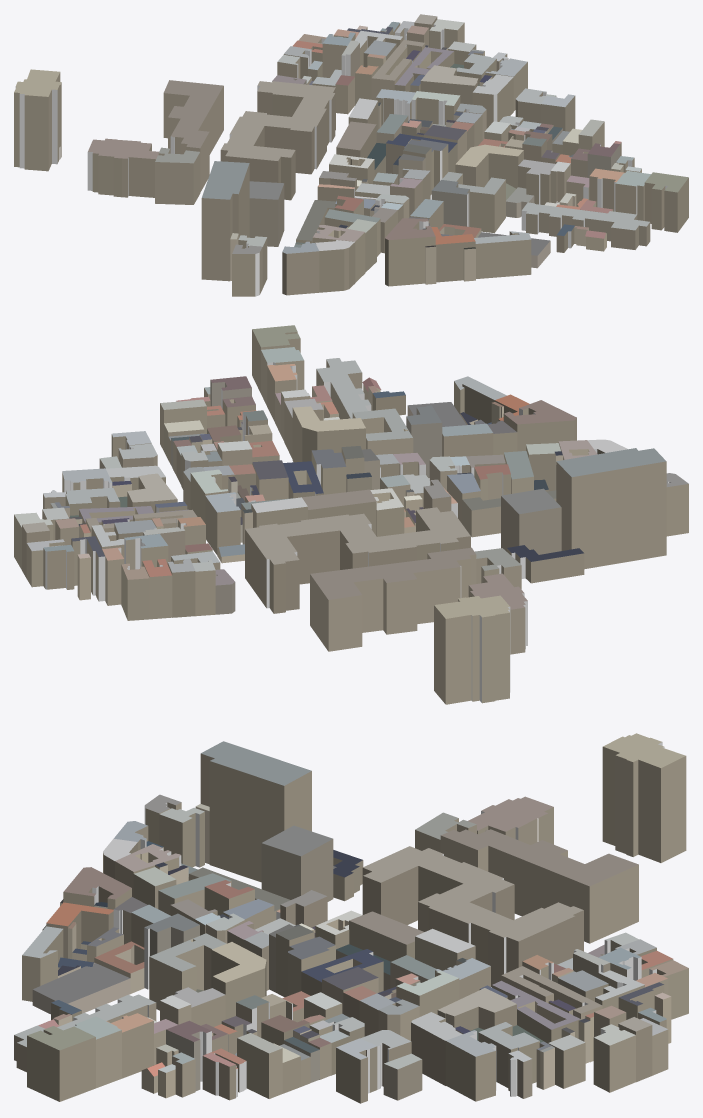
3 renders of one model, top to bottom at view 1: azimuth 30°, elevation 25°; view 2: azimuth 150°, elevation 25°; view 3: azimuth 270°, elevation 25°, orthographic. The views are drawn at different scales.
Parts seen in each view (by area): view 1: tuile; view 2: tuile; view 3: tuile.
Part boxes in pixels (bbox=[...]): tuile: bbox=[14, 14, 688, 296]; tuile: bbox=[14, 325, 688, 704]; tuile: bbox=[14, 733, 688, 1103].
Size of the model in its own units: 263 by 45.7 by 266.
